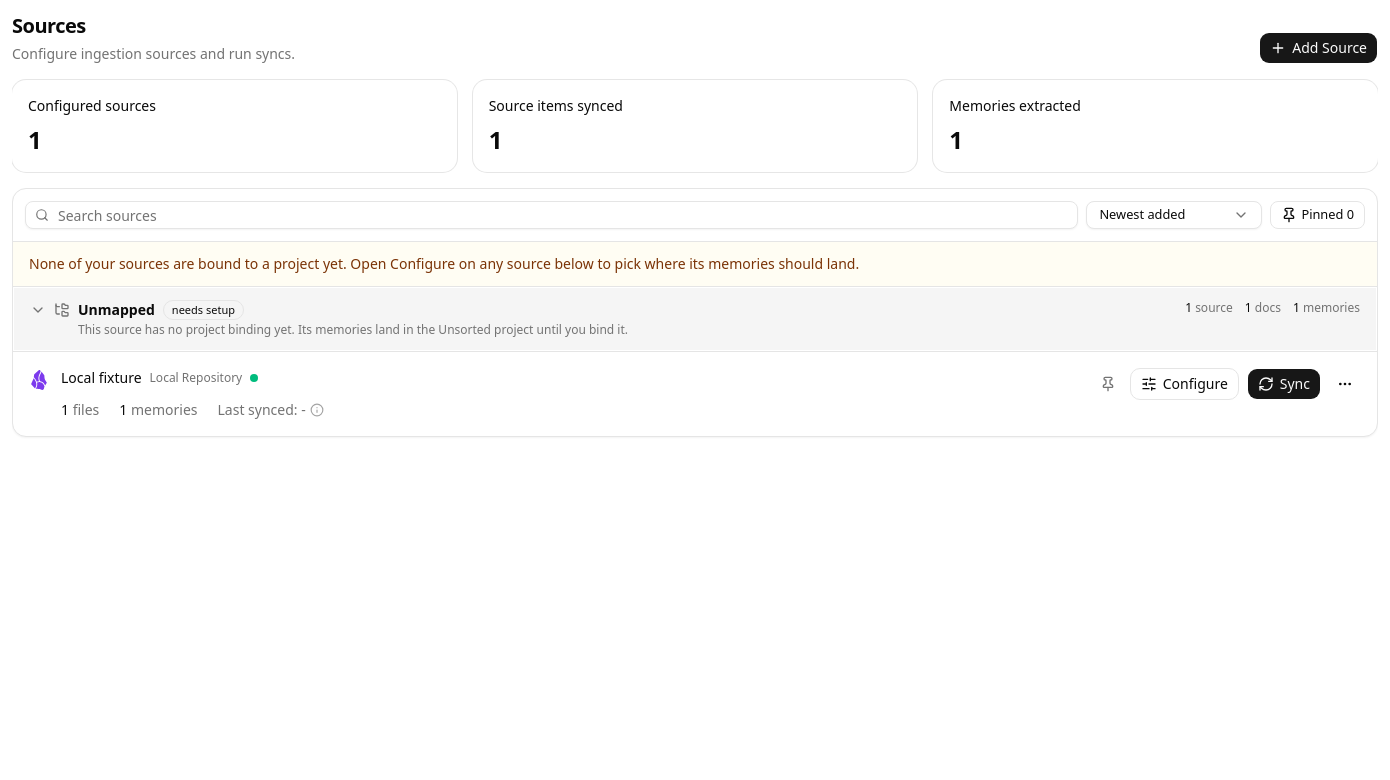
shows exact-record refresh failures without releasing the admitted-work guard
Click the button "Sync" at coordinates (1284, 384), box [1247,368,1321,400]
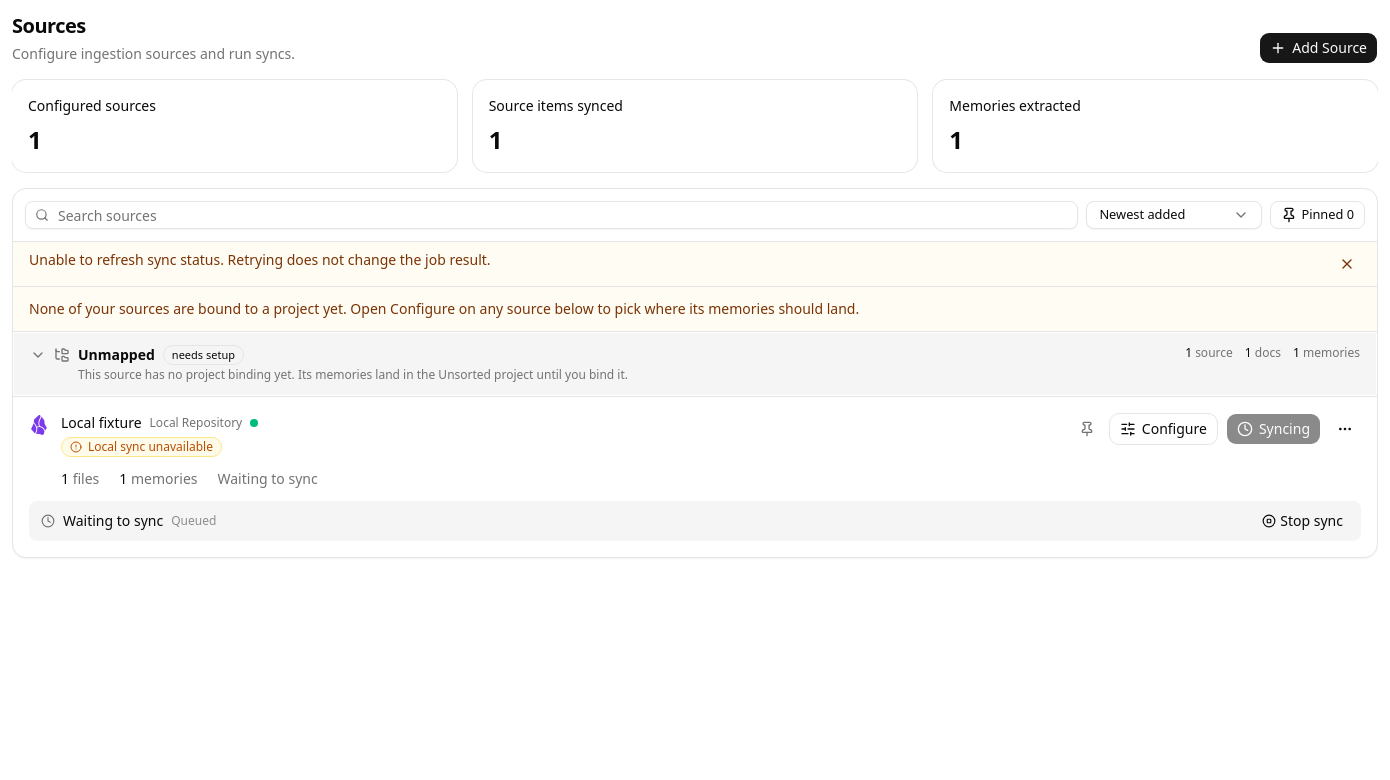
Expected: the button with aria-label "Sync in progress" is disabled, [1226,413,1321,445]
